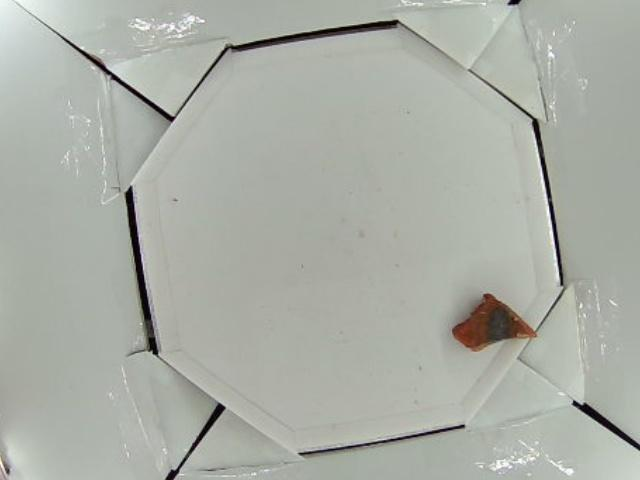Brisk: (451, 293, 539, 351)
